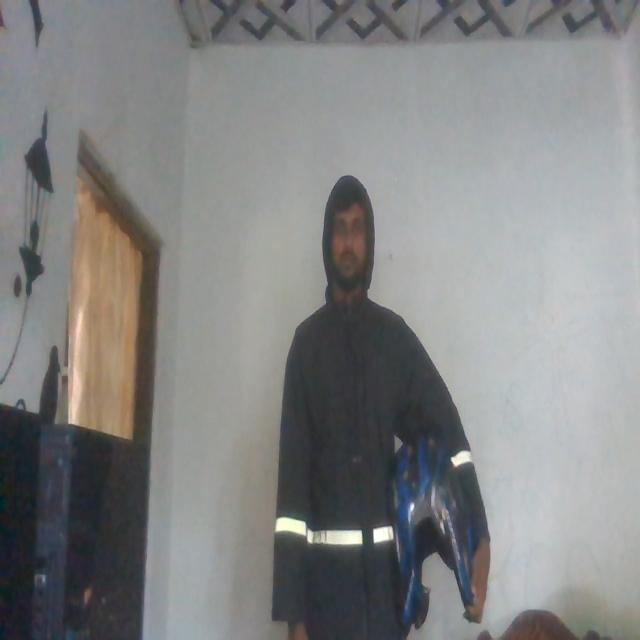Jacket_Wearer: (272, 298, 478, 640)
Person: (258, 163, 489, 640)
